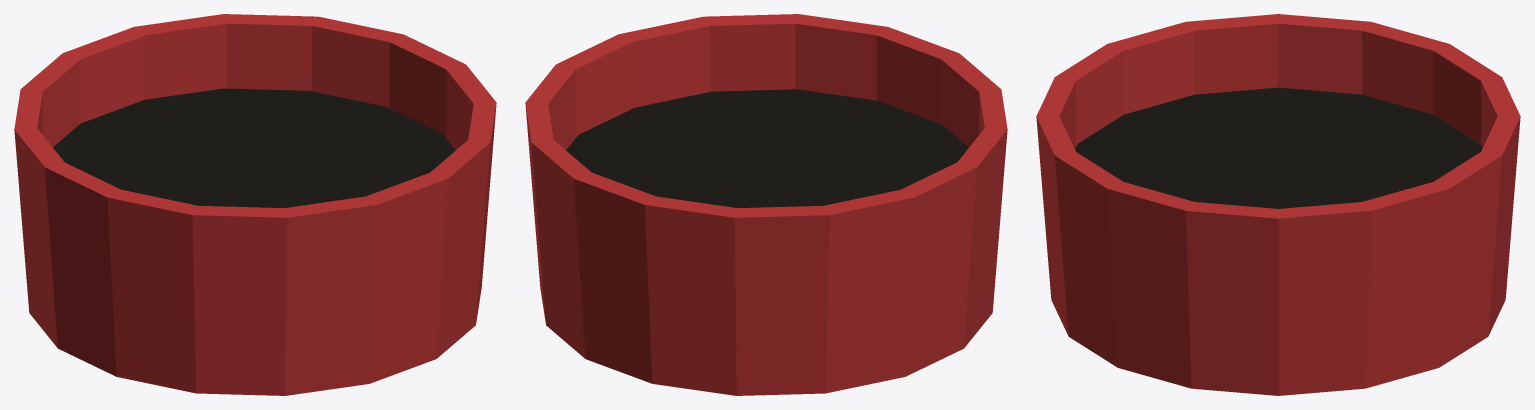
File: fish4.glb
3 views of the same model, side by side, from view 1: azimuth 30°, elevation 25°; view 2: azimuth 150°, elevation 25°; view 3: azimuth 270°, elevation 25° (orthographic).
Parts seen in each view (by area): view 1: Cylinder.002; view 2: Cylinder.002; view 3: Cylinder.002.
Part boxes in pixels (box(x1,y1,x2,y2)): Cylinder.002: box(14, 14, 496, 395); Cylinder.002: box(525, 14, 1007, 395); Cylinder.002: box(1036, 14, 1520, 395).
Bounding box in the file's own units: 2.25 × 0.9435 × 2.25.
Materials: 2 (1 with a texture image).
